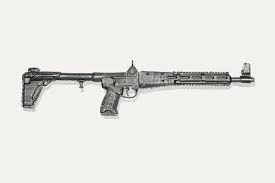gun: (20, 59, 257, 118)
